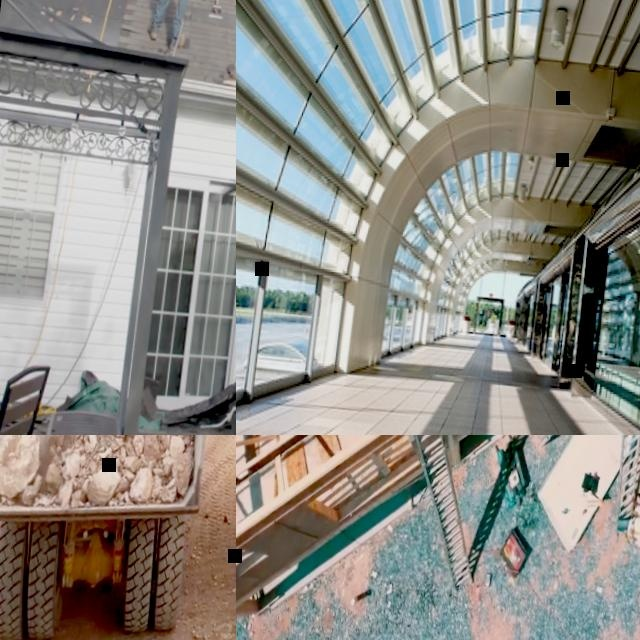Hardhat: (632, 516, 640, 533)
Person: (144, 0, 222, 56), (625, 495, 640, 549)
machinery: (0, 435, 228, 640), (79, 435, 236, 640)
